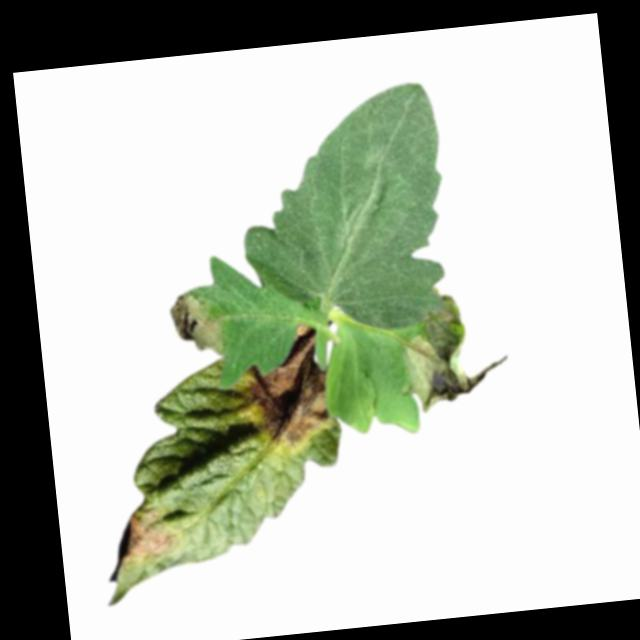Late_blight: (396, 278, 516, 412), (240, 322, 339, 453), (168, 287, 228, 359), (121, 508, 179, 567)
healthy: (230, 81, 456, 343)
